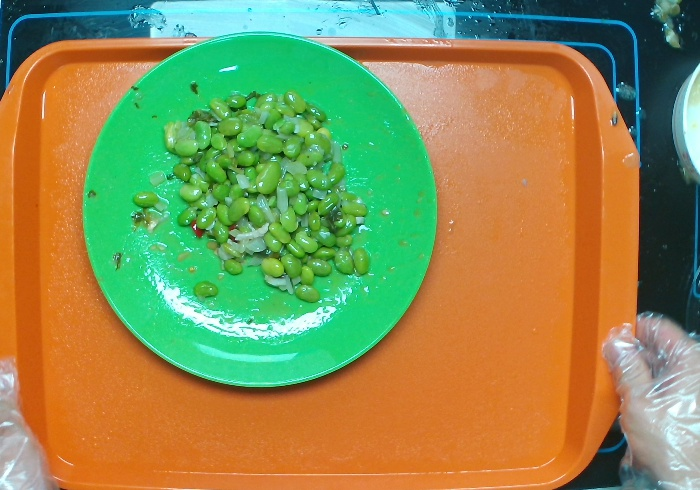HZYJPL-Lv_Se_Yuan_Pan: (73, 28, 441, 394)
